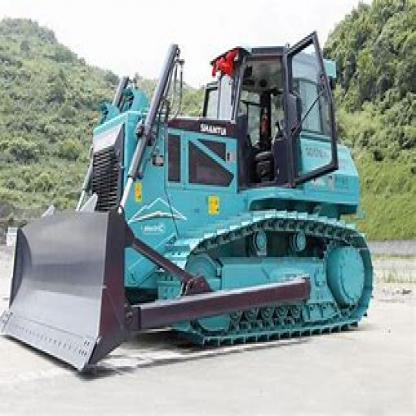bull_dozer/loader/grader: (1, 24, 378, 385)
